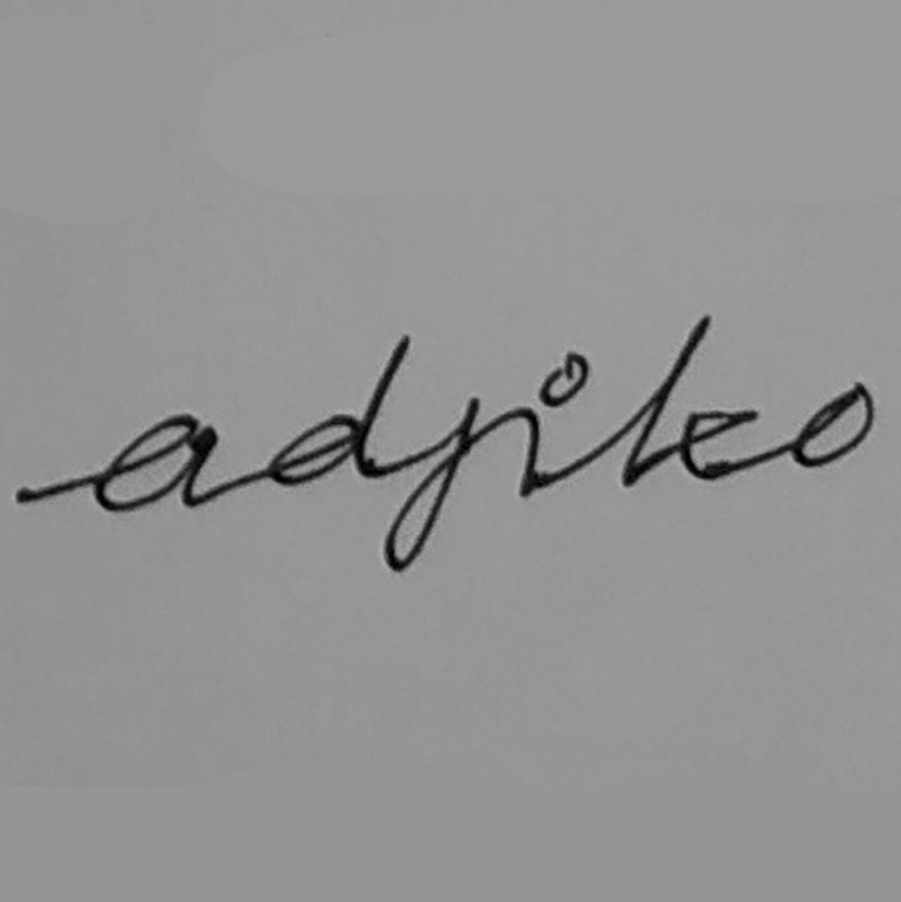a: (91, 411, 220, 518)
d: (264, 330, 415, 490)
i: (512, 346, 594, 505)
j: (380, 391, 483, 574)
k: (617, 310, 760, 490)
o: (790, 378, 877, 469)
